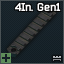MPX GEN1 handguard 4 inch rail: (0, 0, 64, 64)
